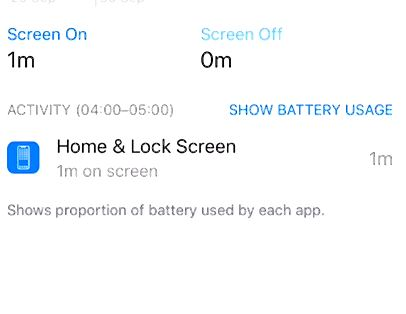activity: (3, 96, 181, 124)
app: (3, 134, 400, 186)
